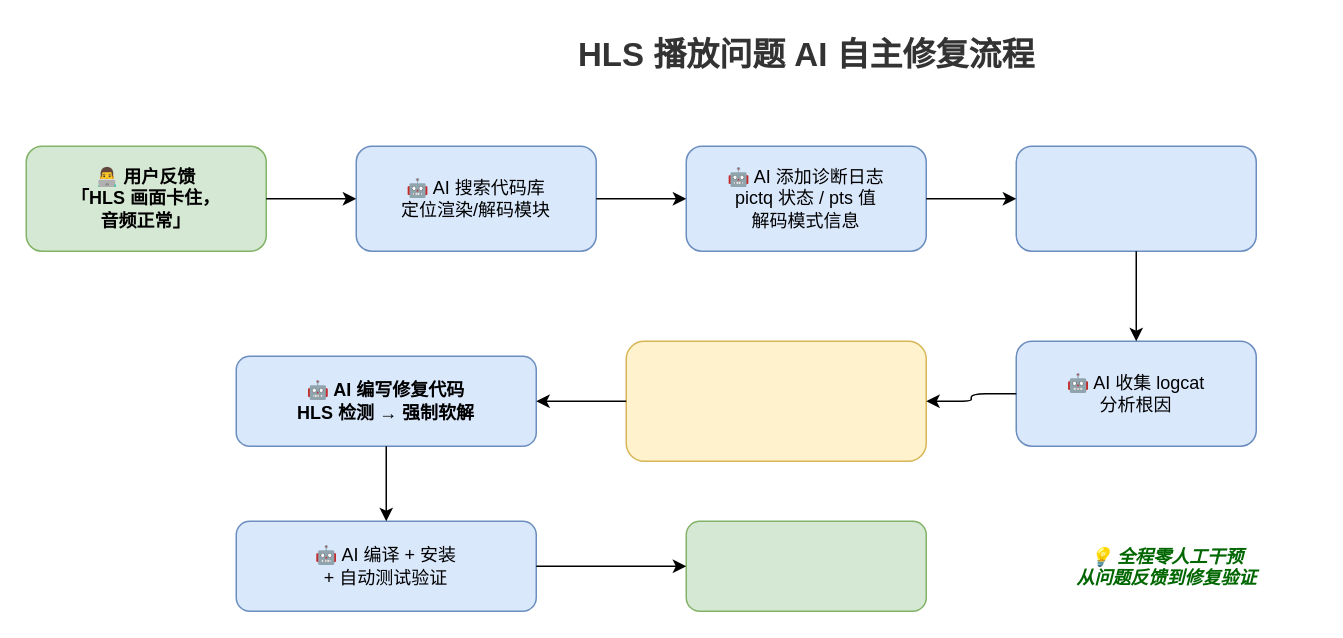
The diagram is 1343 pixels wide and 638 high, and some of its shapes have lost their labels. The centre of each missing label's shape, as x and y in pixels:
"✅ 全部 PASSED HLS 播放正常" belongs at (x=805, y=565).
"🔍 根因定位 HW_SURFACE: pictq 为空 HW_BUFFER: pts 全是 NaN → MediaCodec 与 HLS 不兼容" belongs at (x=775, y=400).
"🤖 AI 编译 + 安装 + 自动运行测试" belongs at (x=1135, y=198).
